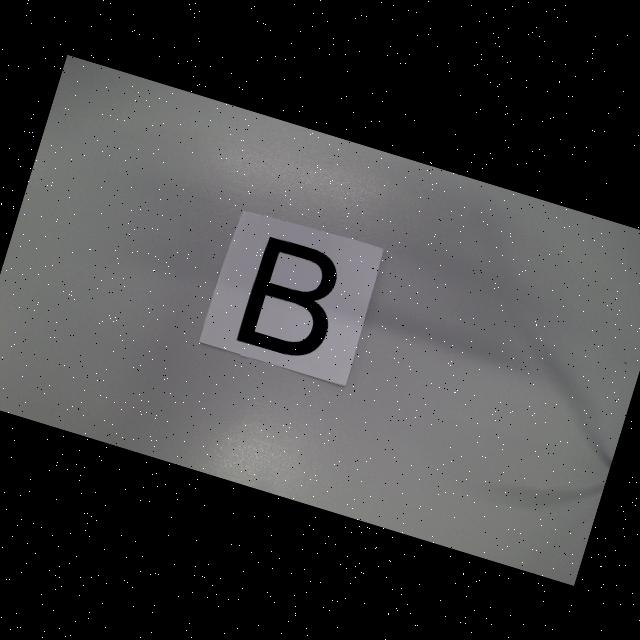FAKE: (236, 235, 350, 365)
